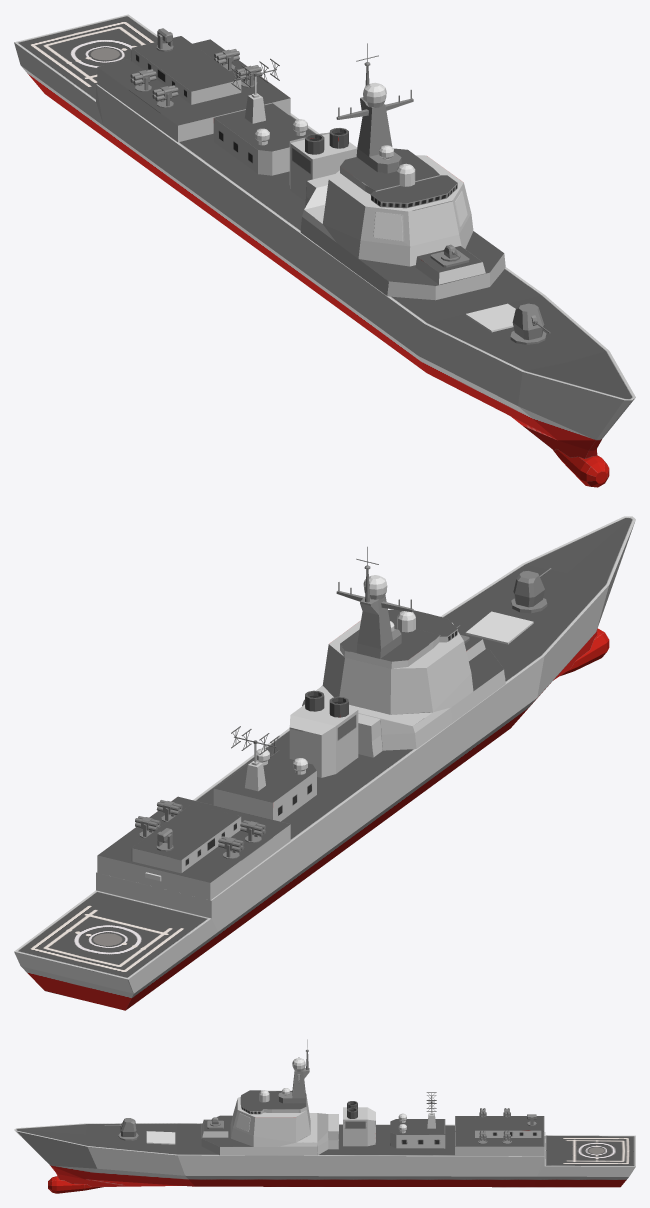
3 renders of one model, top to bottom at view 1: azimuth 30°, elevation 25°; view 2: azimuth 150°, elevation 25°; view 3: azimuth 270°, elevation 25°, orthographic. The views are drawn at different scales.
Parts seen in each view (by area): view 1: Cube, Cube.008, Cube.001; view 2: Cube, Cube.008, Cube.001; view 3: Cube, Cube.008, Cube.001.
Boxes of the visible parts, x1,y1,x2,y2 form: Cube: [14, 14, 635, 487]; Cube.008: [255, 82, 415, 186]; Cube.001: [512, 303, 544, 339]; Cube: [14, 516, 635, 1010]; Cube.008: [256, 575, 415, 774]; Cube.001: [513, 571, 544, 607]; Cube: [14, 1057, 635, 1193]; Cube.008: [259, 1058, 406, 1133]; Cube.001: [120, 1118, 136, 1136].
Bounding box in the file's own units: 57.25 × 127 × 464.
4 materials, 1 textured.
